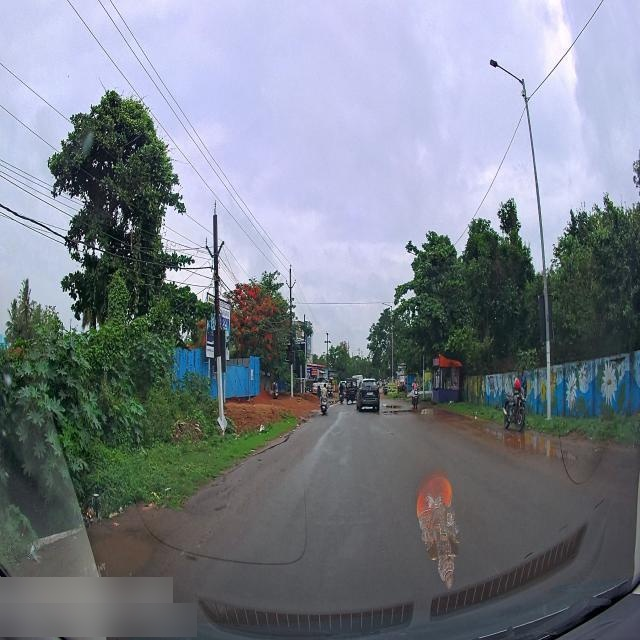pothole: (496, 431, 576, 464), (419, 408, 453, 419), (381, 398, 402, 411)
